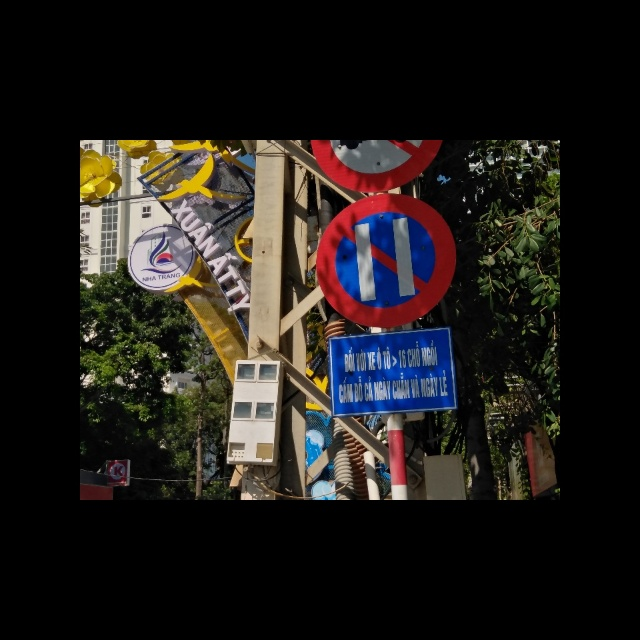Cấm đỗ xe ngày chẵn: (310, 194, 456, 323)
